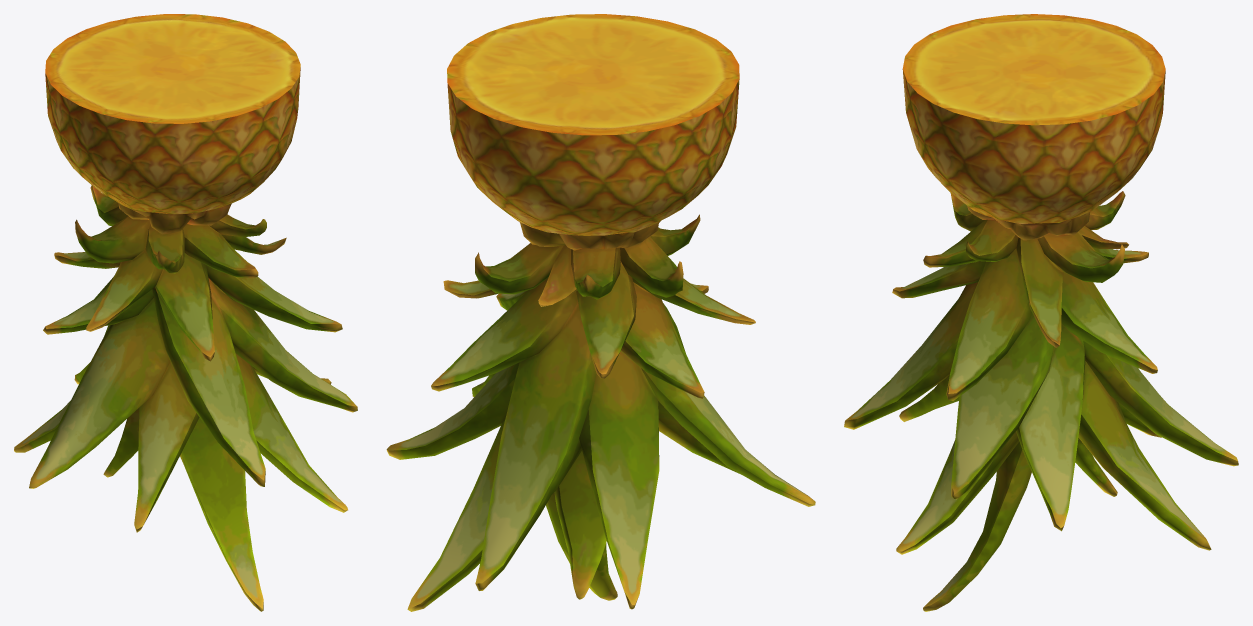
Rendered from SM_PineappleCutTop.fbx.
The picture shows the model from 3 angles, left to right: view 1: azimuth 30°, elevation 25°; view 2: azimuth 150°, elevation 25°; view 3: azimuth 270°, elevation 25°; orthographic projection. The views are drawn at different scales.
Visible parts, largest first — view 1: SM_PineappleCutTop; view 2: SM_PineappleCutTop; view 3: SM_PineappleCutTop.
Part boxes in pixels (left/top/right/bottom): SM_PineappleCutTop: left=14, top=14, right=357, bottom=611; SM_PineappleCutTop: left=386, top=14, right=815, bottom=611; SM_PineappleCutTop: left=844, top=14, right=1238, bottom=611.
Size of the model in its own units: 28.97 by 41.58 by 28.34.
Materials: 1 (1 with a texture image).
